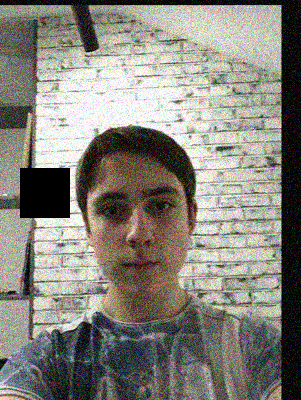without_mask: (87, 180, 189, 297)
